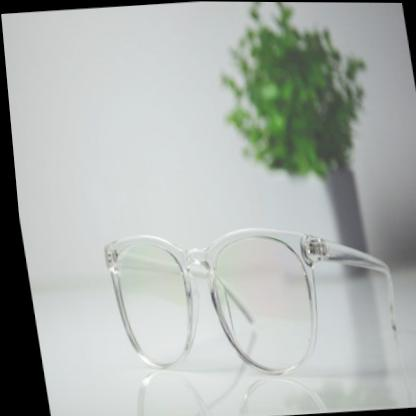Spectacles: (95, 220, 329, 389)
